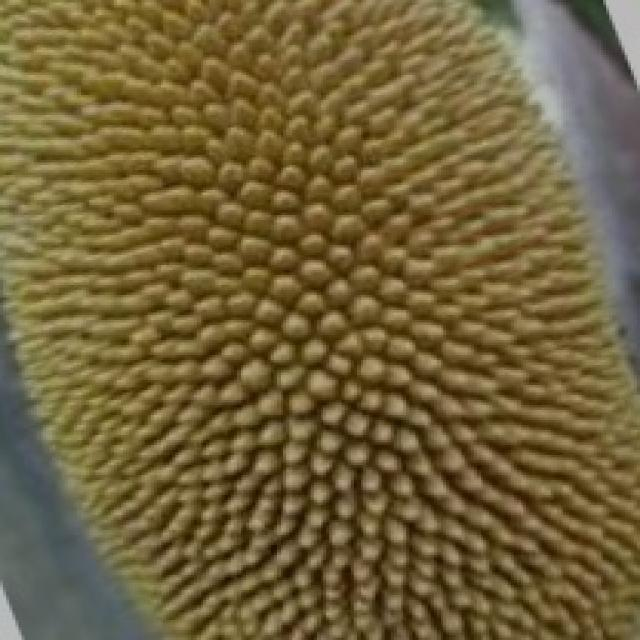Fruit: (0, 0, 403, 402), (0, 295, 366, 640), (261, 2, 640, 292)
